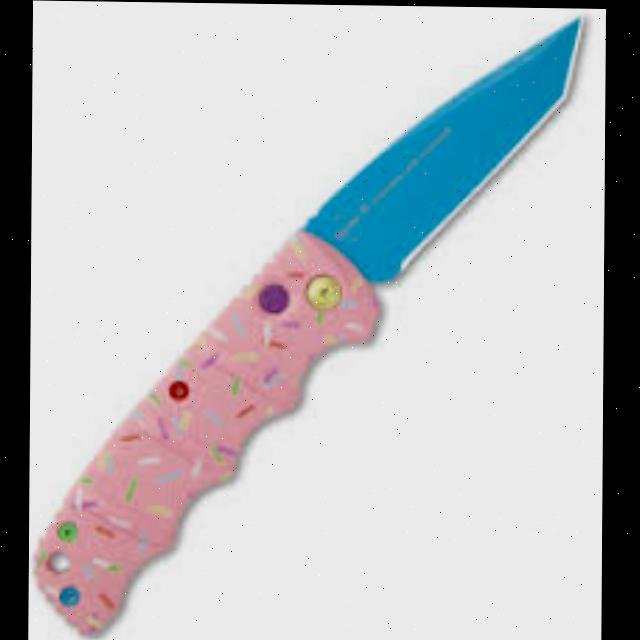Knife: (33, 4, 587, 640)
